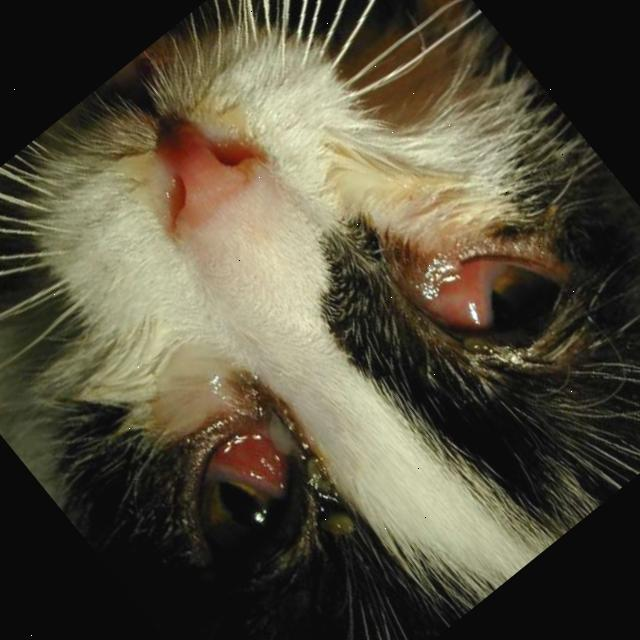cat-eye: (76, 324, 390, 640), (349, 132, 638, 424)
